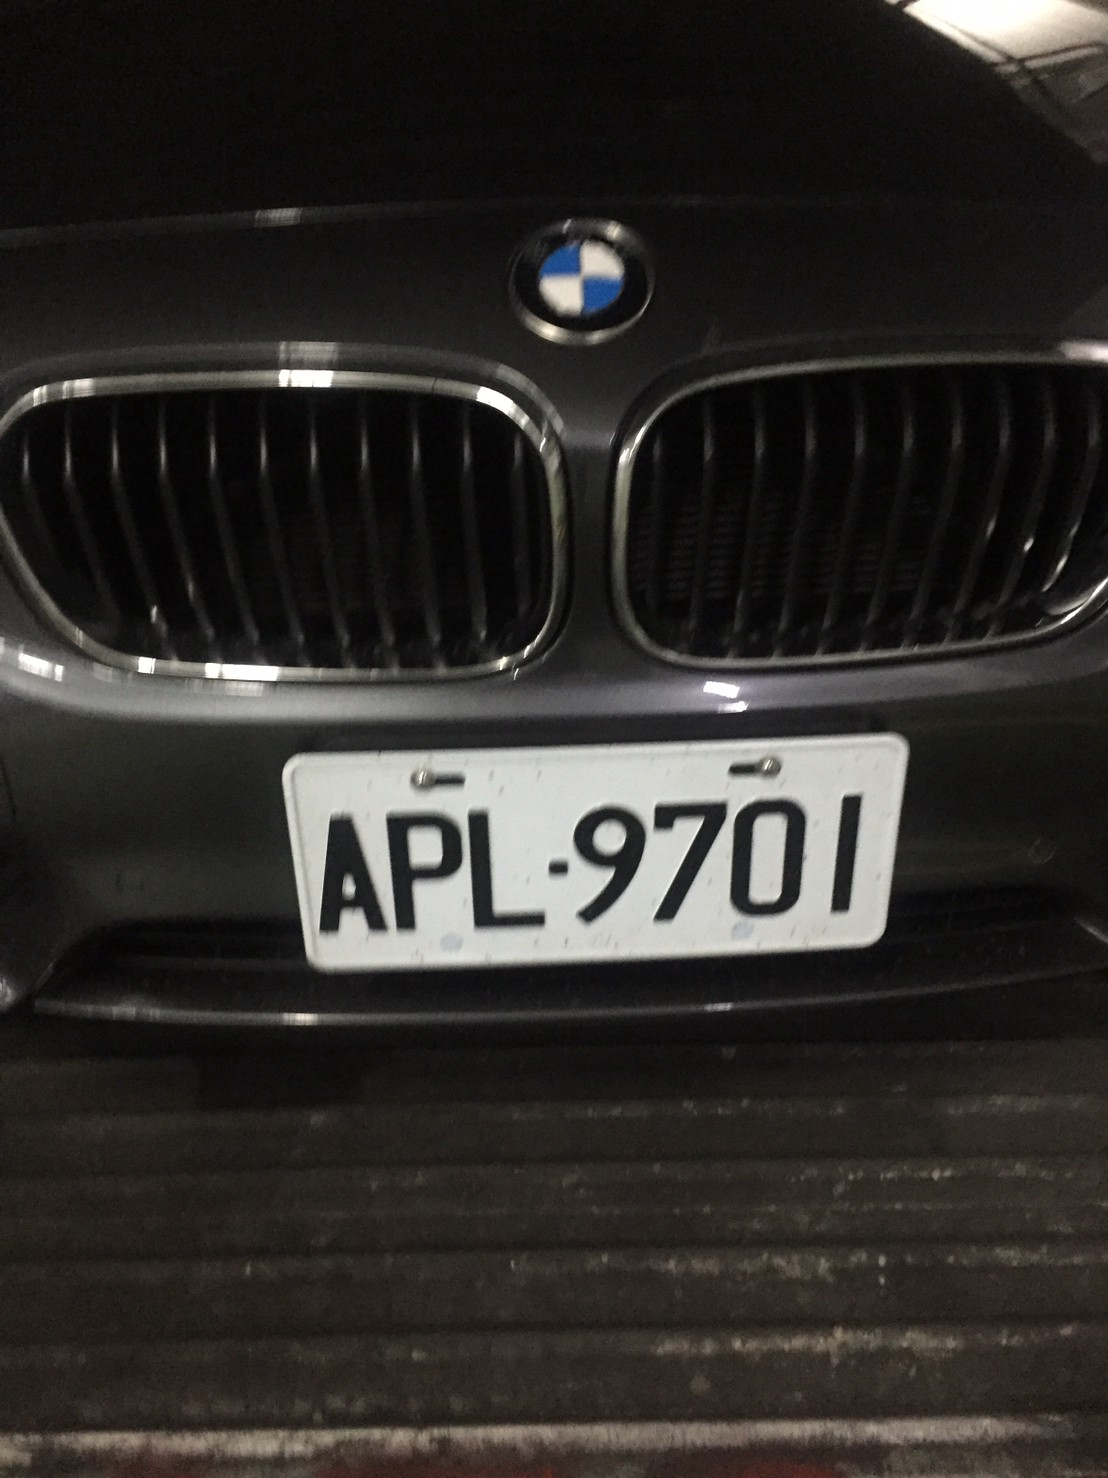LP: (282, 738, 916, 958)
